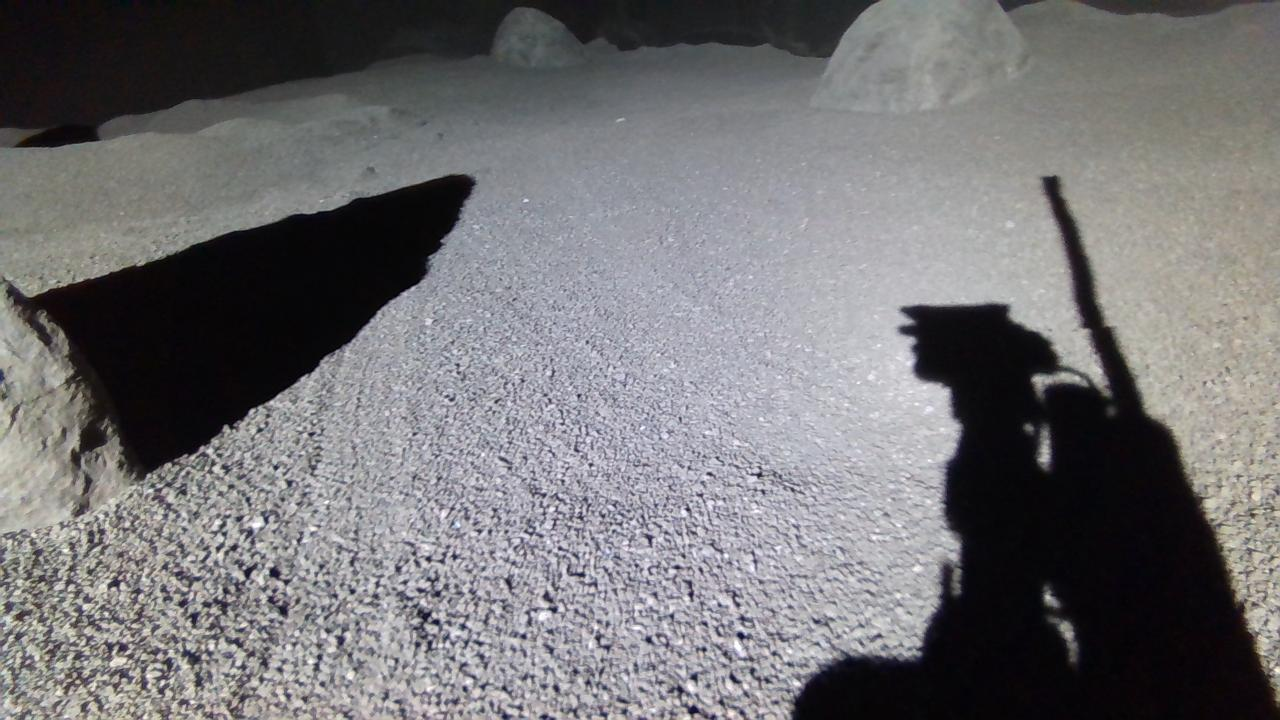rock: (0, 275, 142, 533), (812, 0, 1032, 111), (491, 5, 587, 66)
